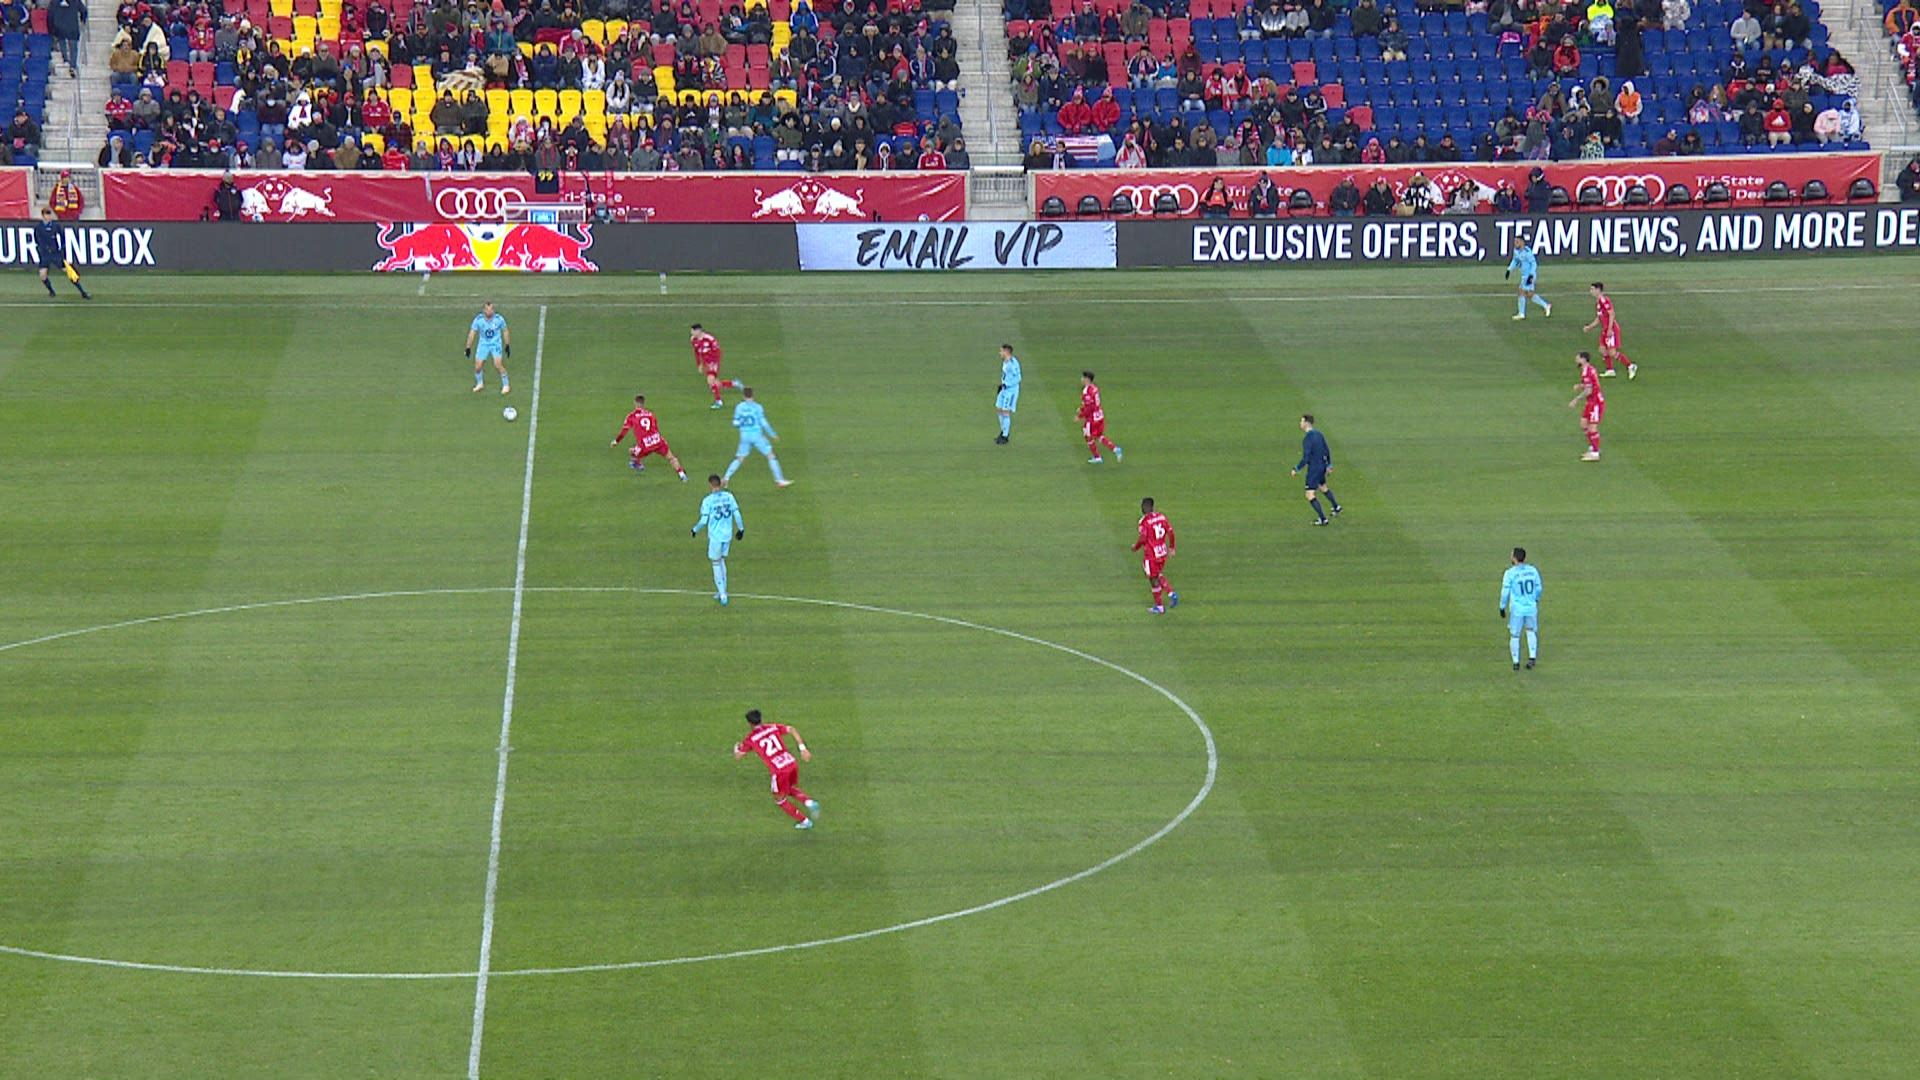football: (502, 405, 520, 422)
